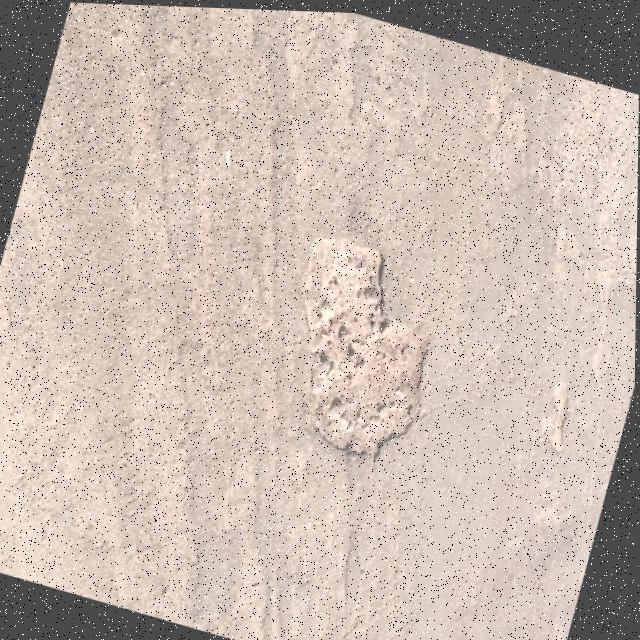pothole: (258, 219, 466, 470)
